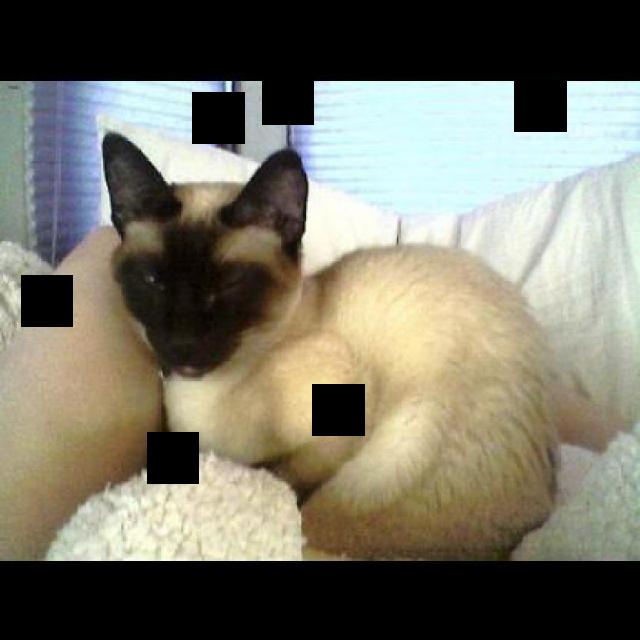unauthorized: (98, 129, 604, 560)
